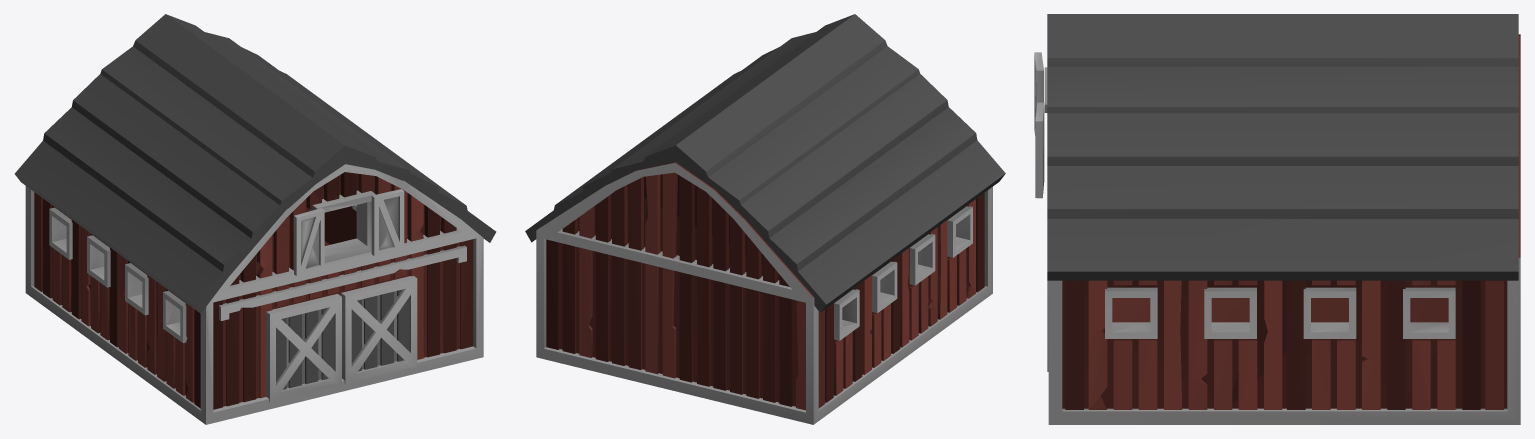
Rendered from farm-barn.glb.
3 renders of one model, left to right at view 1: azimuth 30°, elevation 25°; view 2: azimuth 150°, elevation 25°; view 3: azimuth 270°, elevation 25°, orthographic. The views are drawn at different scales.
Visible parts, largest first — view 1: farm-barn; view 2: farm-barn; view 3: farm-barn.
Part boxes in pixels (<box>): farm-barn: <box>14,14,496,424</box>; farm-barn: <box>525,14,1005,424</box>; farm-barn: <box>1034,14,1520,424</box>.
Size of the model in its own units: 8.36 by 6.5 by 8.89.
